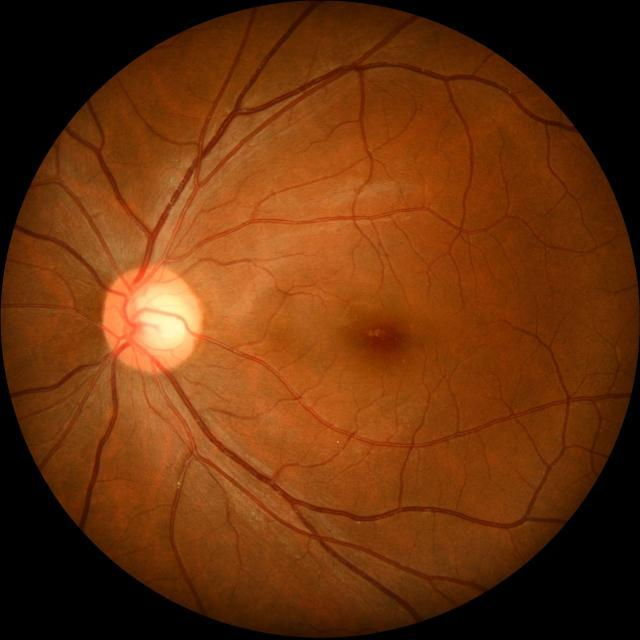OC: (125, 282, 193, 354)
OD: (99, 266, 199, 372)
